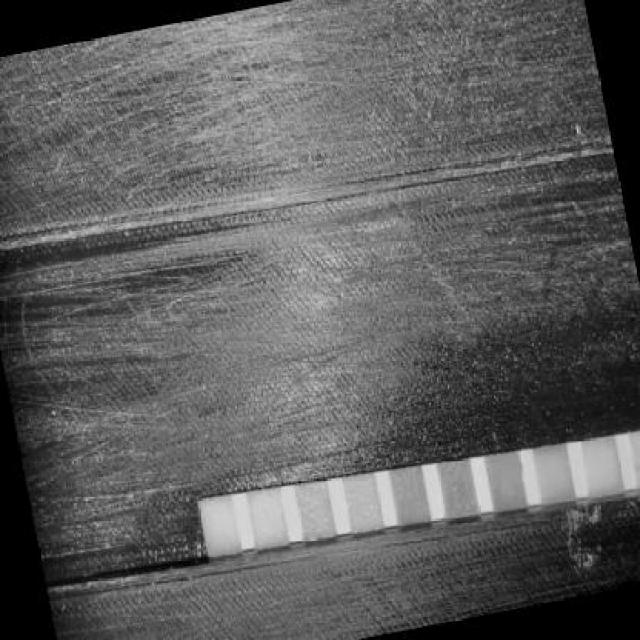Bilirubin: (587, 442, 615, 494)
Blood: (444, 462, 469, 514)
Glucose: (631, 434, 640, 456)
Ketone: (540, 448, 566, 501)
Leukocytes: (210, 499, 232, 554)
Nitrite: (256, 491, 279, 546)
Protein: (352, 476, 374, 531)
SpGravity: (493, 456, 518, 509)
Urobilinogen: (304, 482, 326, 539)
background: (0, 0, 640, 640)
pH: (399, 470, 422, 524)
strip: (198, 431, 638, 560)
